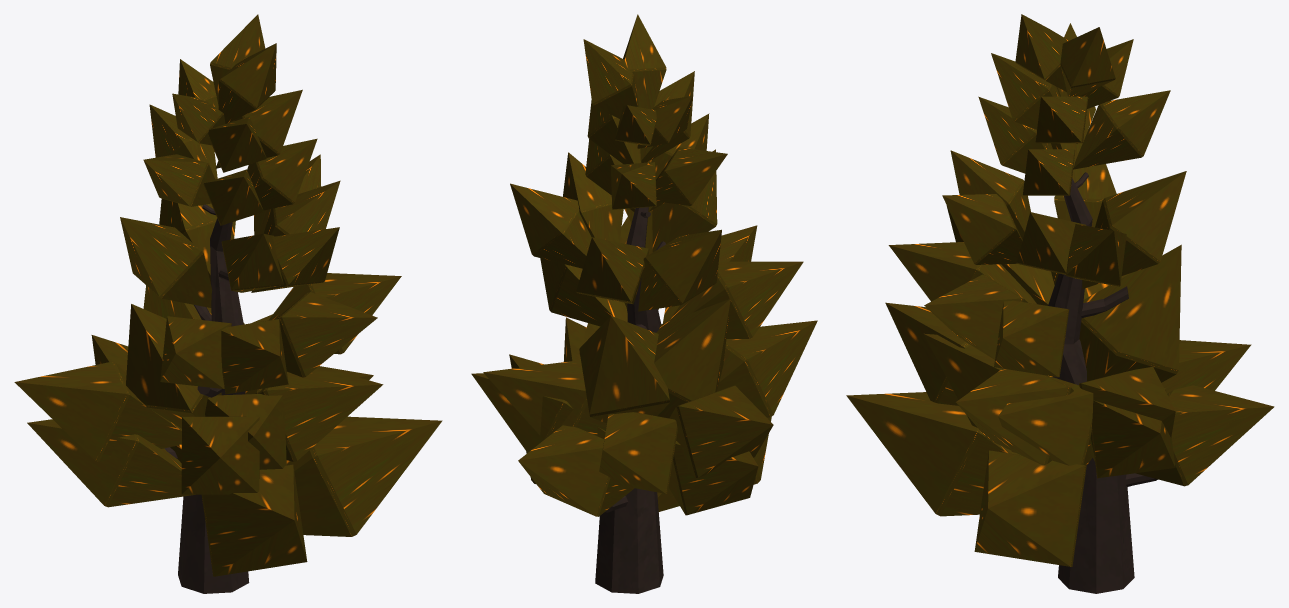
The model's file is tree-dark-green-flowers_6.fbx.
3 renders of one model, left to right at view 1: azimuth 30°, elevation 25°; view 2: azimuth 150°, elevation 25°; view 3: azimuth 270°, elevation 25°, orthographic. The views are drawn at different scales.
Visible parts, largest first — view 1: Cube.009; view 2: Cube.009; view 3: Cube.009.
Boxes of the visible parts, box(x1,y1,x2,y2) form: Cube.009: box(14, 14, 442, 593); Cube.009: box(471, 14, 817, 593); Cube.009: box(846, 14, 1274, 593).
Size of the model in its own units: 193 by 291 by 196.
